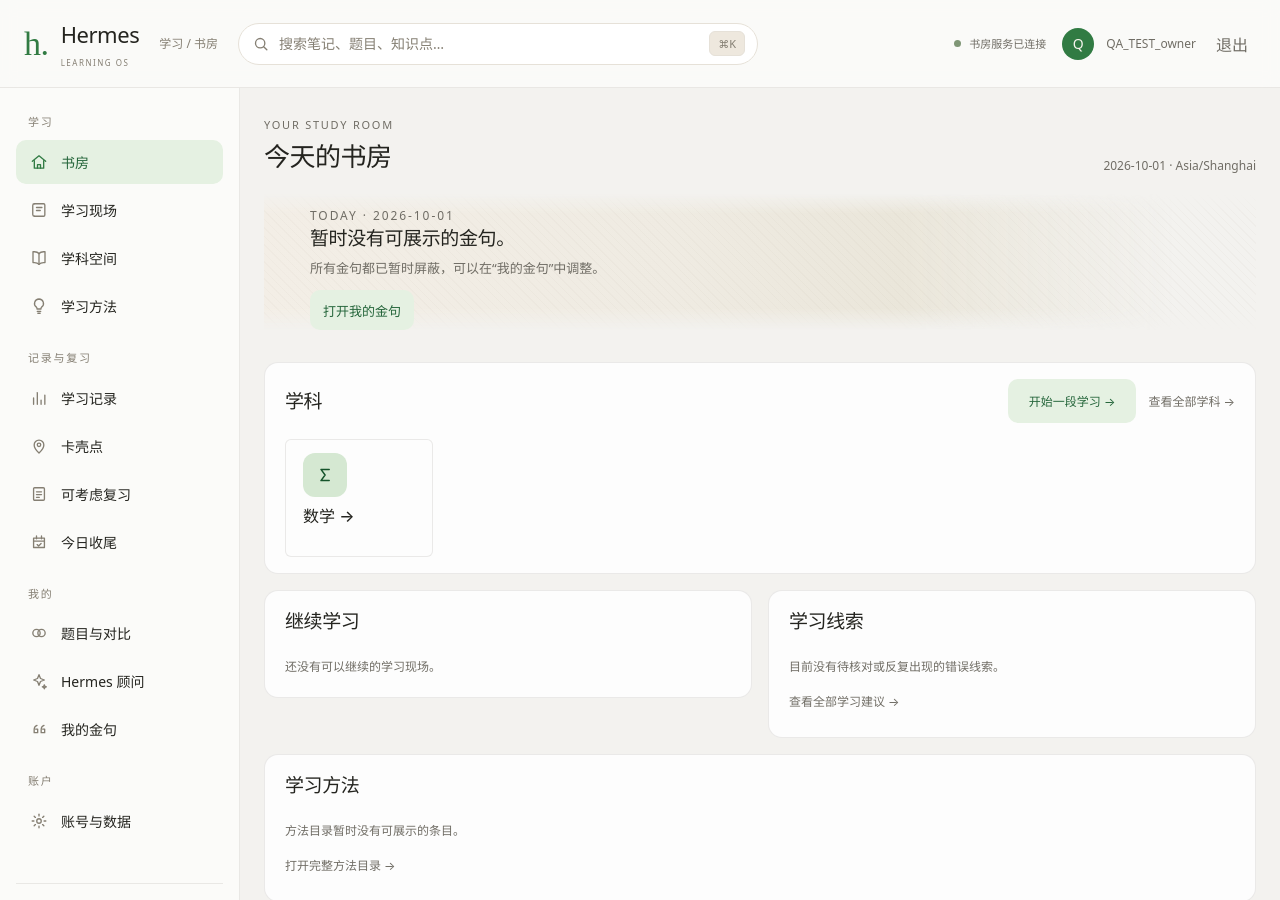
enters learning without a write and preserves an uncertain start command: true
Click the button "可考虑复习": (120, 494) [16,472,223,516]
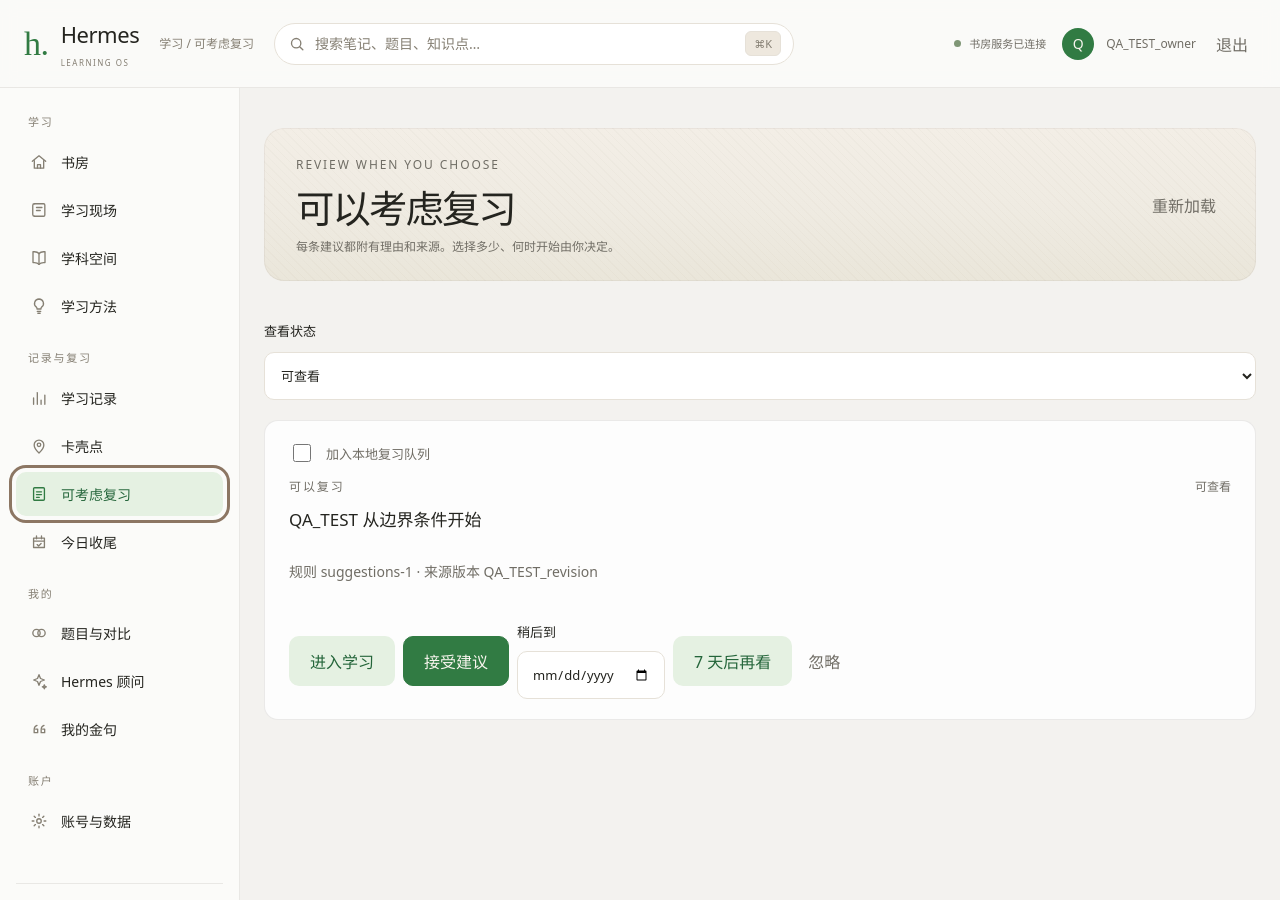
Click the button "进入学习": (342, 660) [289,636,395,686]
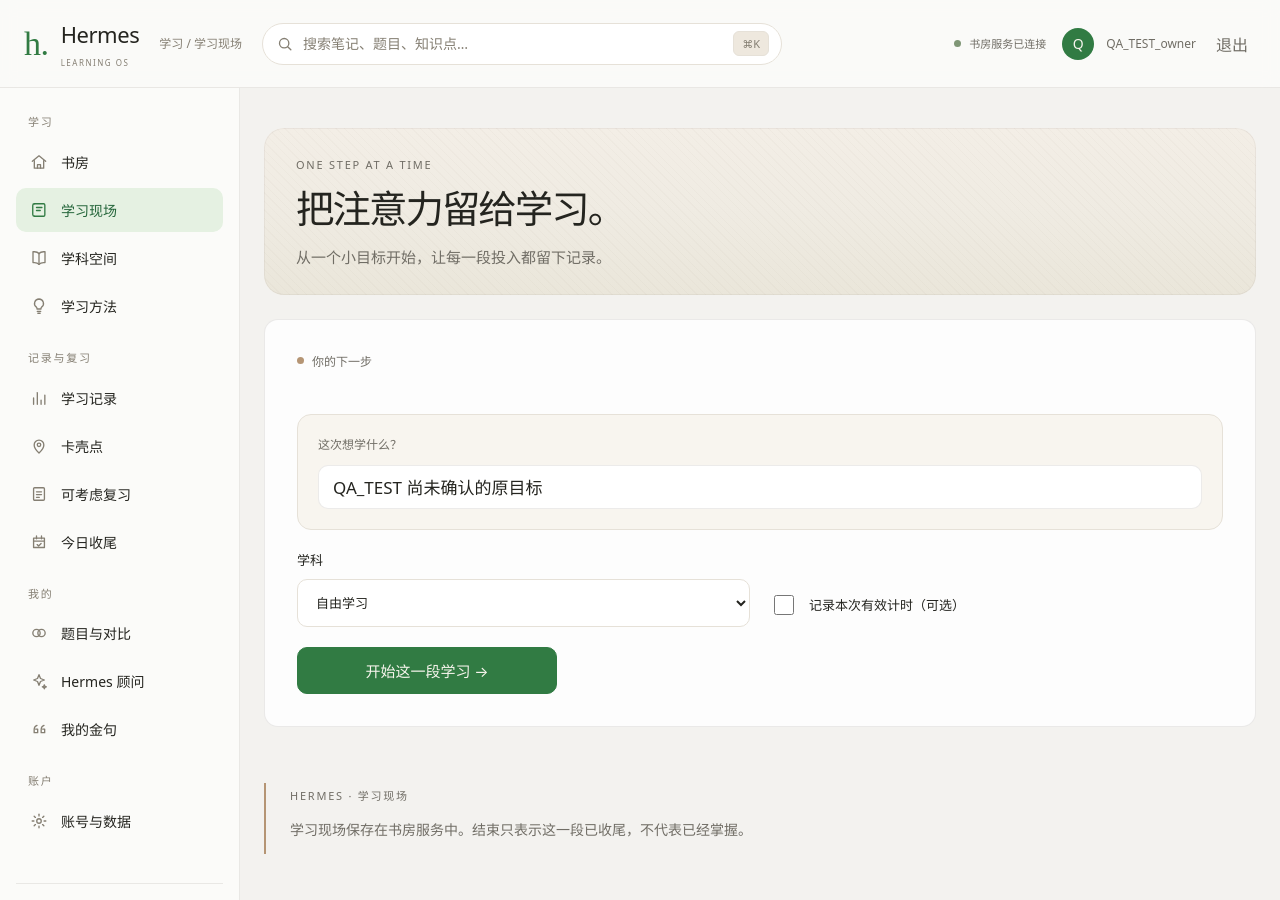
Now the field labelled "这次想学什么？" holds "QA_TEST 尚未确认的原目标", box [318,465,1202,509]
